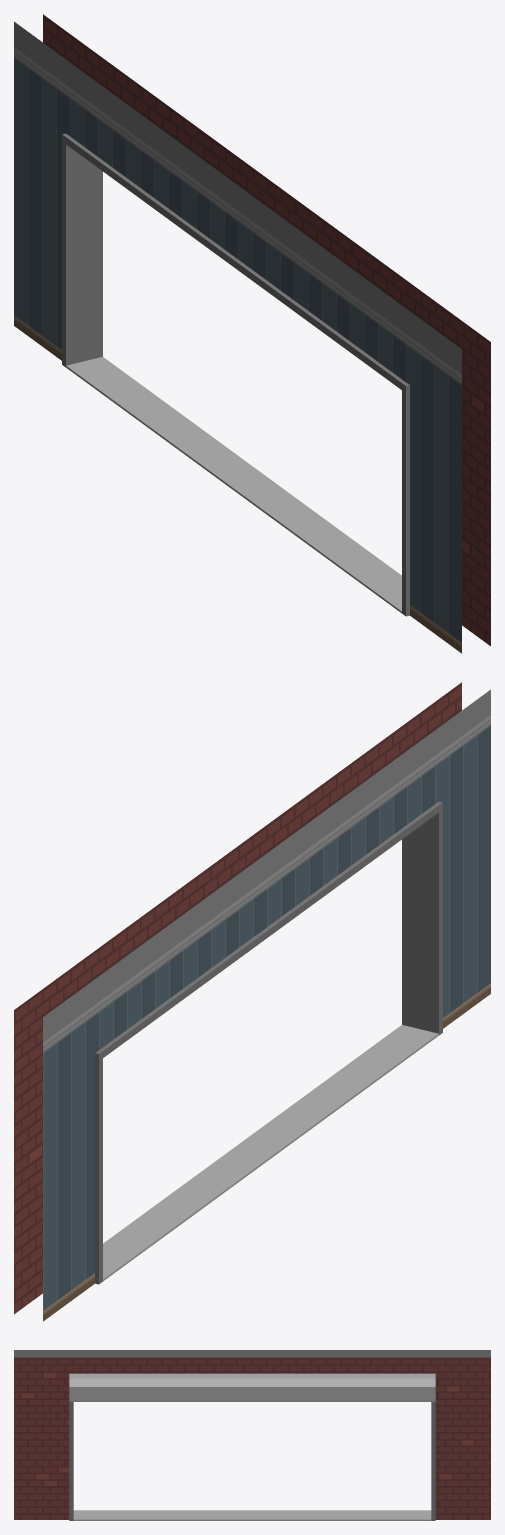
Rendered from SM_wallGarageDoor_01_double.glb.
3 views of the same model, one above another, from view 1: azimuth 30°, elevation 25°; view 2: azimuth 150°, elevation 25°; view 3: azimuth 270°, elevation 25° (orthographic). The views are drawn at different scales.
Visible parts, largest first — view 1: SM_wallGarageDoor_01_double; view 2: SM_wallGarageDoor_01_double; view 3: SM_wallGarageDoor_01_double.
Boxes of the visible parts, x1,y1,x2,y2 form: SM_wallGarageDoor_01_double: (14,14,490,653); SM_wallGarageDoor_01_double: (14,682,490,1321); SM_wallGarageDoor_01_double: (14,1350,490,1520).
Size of the model in its own units: 0.6626 by 3 by 8.
3 materials, 3 textured.
